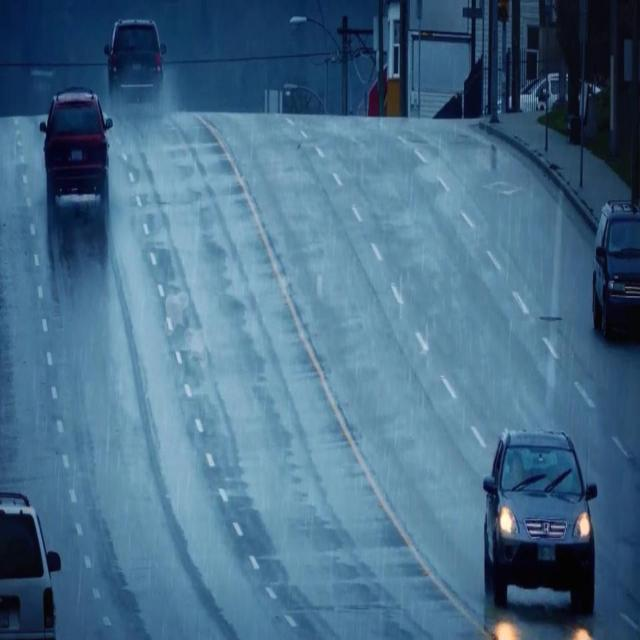Car: (482, 428, 598, 614), (0, 484, 63, 640), (38, 88, 116, 206), (102, 17, 169, 115), (591, 200, 640, 332)
